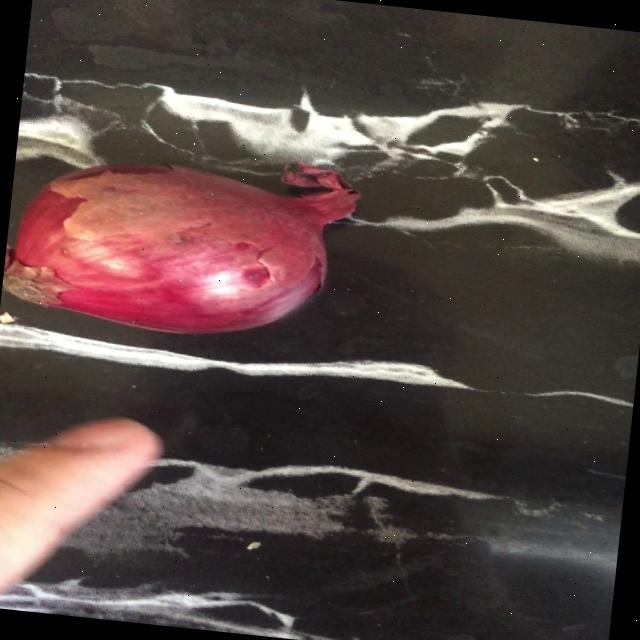Onion: (3, 162, 358, 333)
